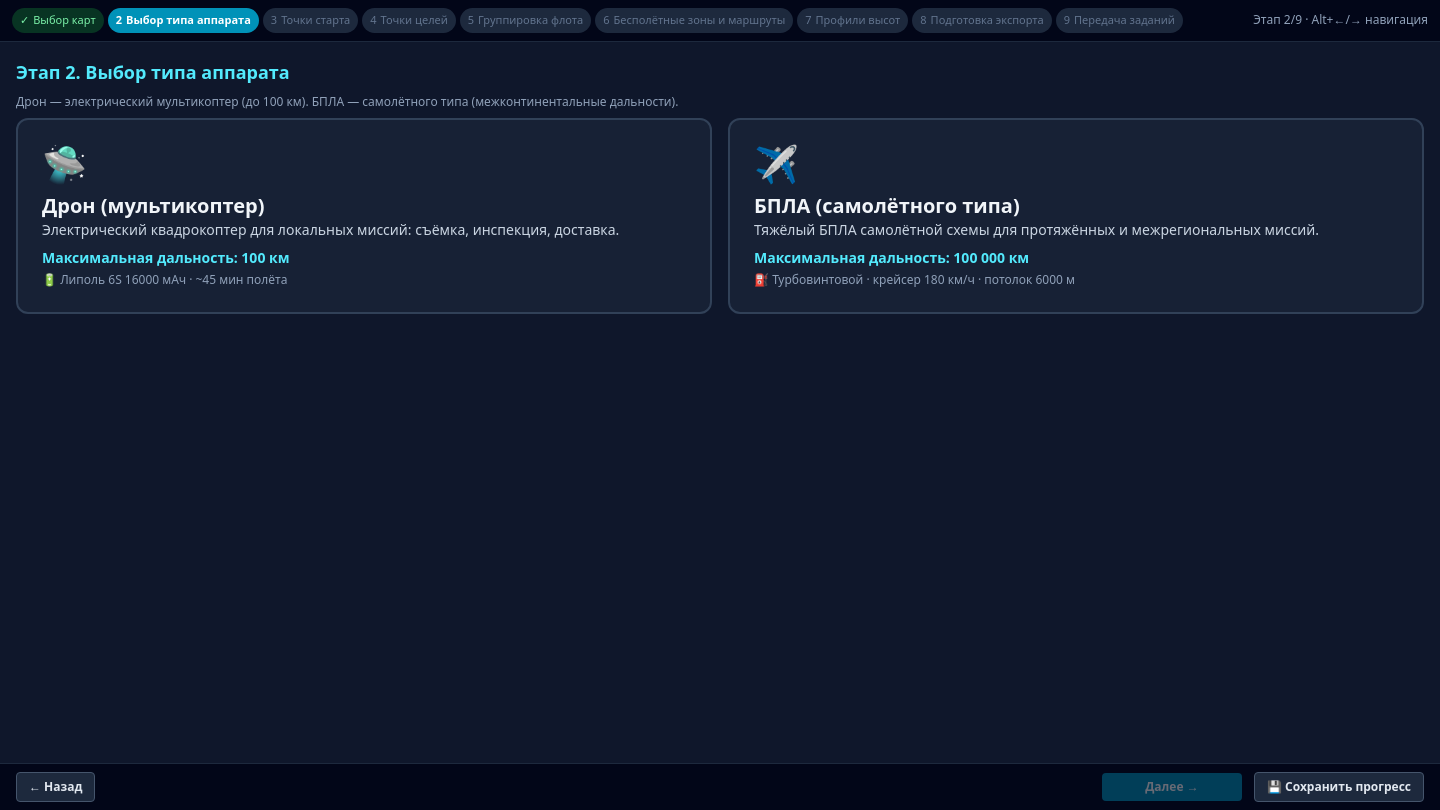
Test: Этап 2 UI — CraftSelectionStep › показывает confirmation dialog при выборе и разблокирует «Далее» после подтверждения
Click the button with test id "craft-card-drone" at (64, 163), box [16,118,712,314]
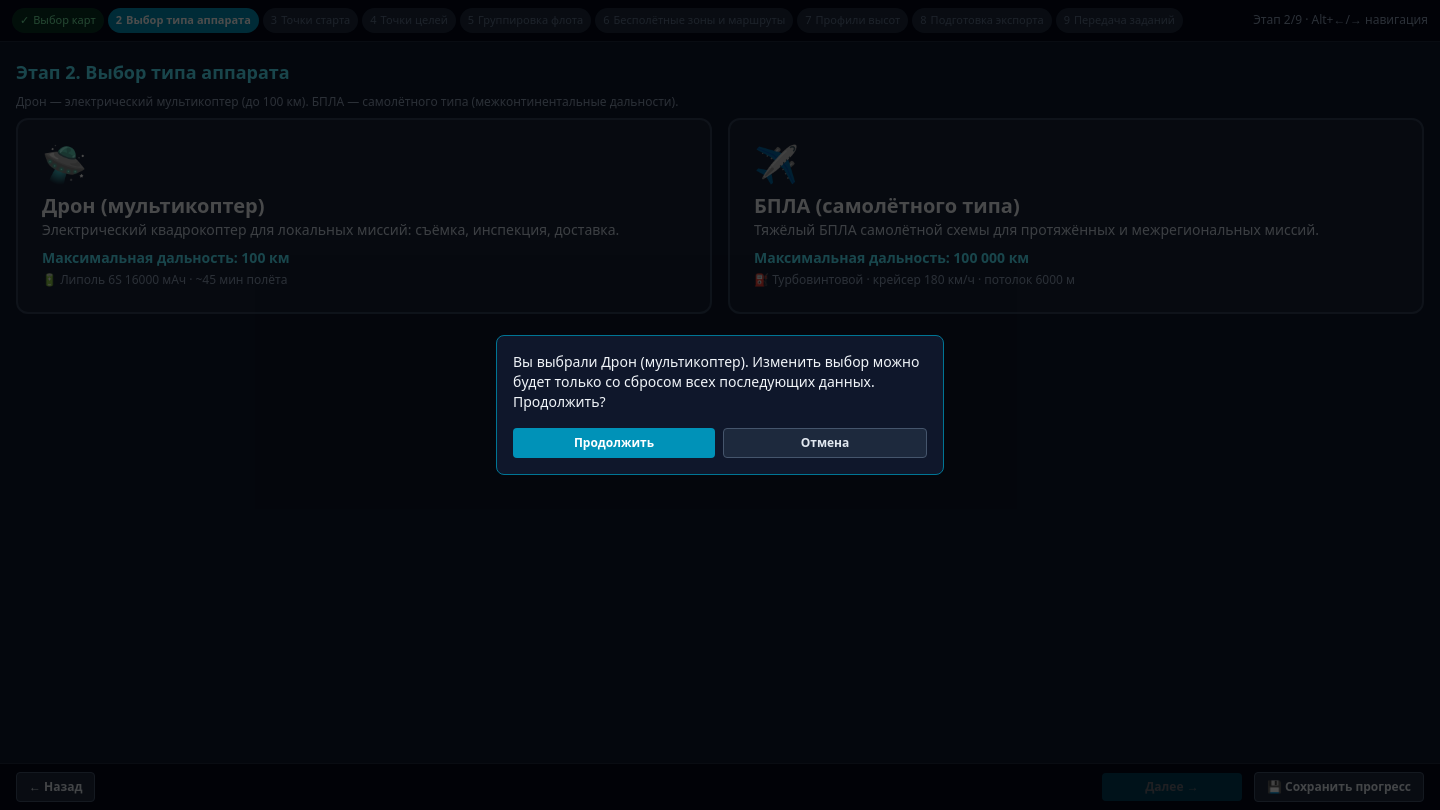
Check: the dialog shows "Вы выбрали", box [513,352,919,411]
Click the button "Продолжить" at (614, 443), box [513,428,715,458]
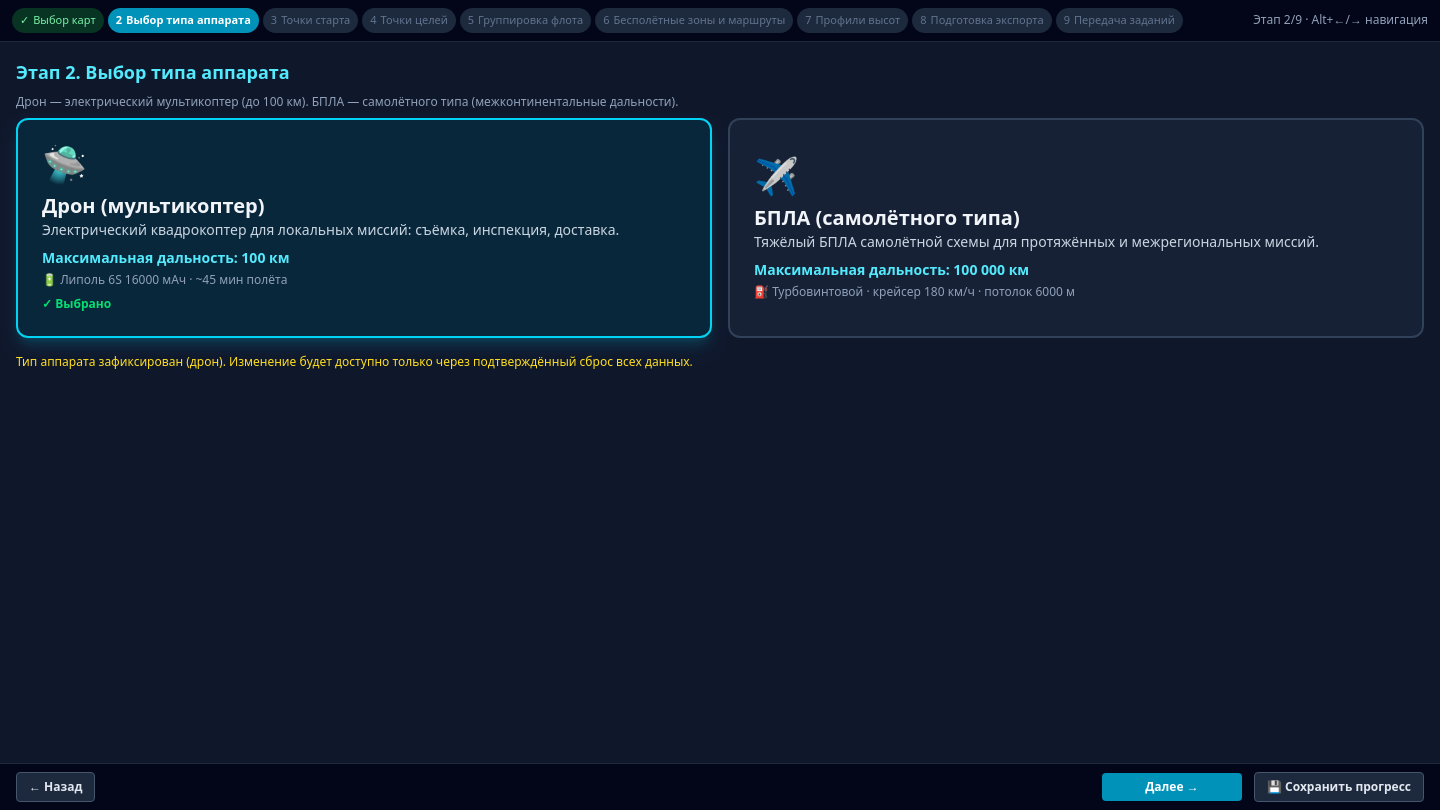
Check: the button "Далее →" is enabled, box [1102,773,1242,801]
